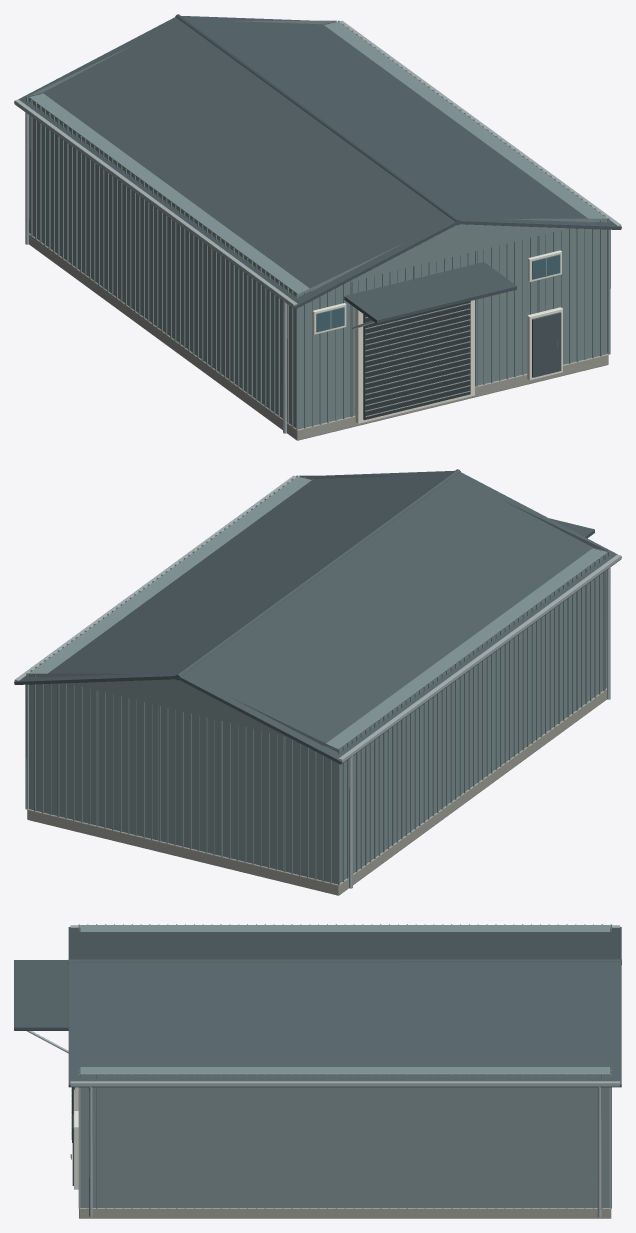
File: warehouse_12x18_lod1.glb
The picture shows the model from 3 angles, top to bottom: view 1: azimuth 30°, elevation 25°; view 2: azimuth 150°, elevation 25°; view 3: azimuth 270°, elevation 25°; orthographic projection.
Parts seen in each view (by area): view 1: warehouse_12x18_lod1; view 2: warehouse_12x18_lod1; view 3: warehouse_12x18_lod1.
Part boxes in pixels (left/top/right/bottom): warehouse_12x18_lod1: left=14, top=14, right=621, bottom=440; warehouse_12x18_lod1: left=14, top=469, right=621, bottom=895; warehouse_12x18_lod1: left=14, top=924, right=621, bottom=1218.
Size of the model in its own units: 12.62 by 6.89 by 20.56.
